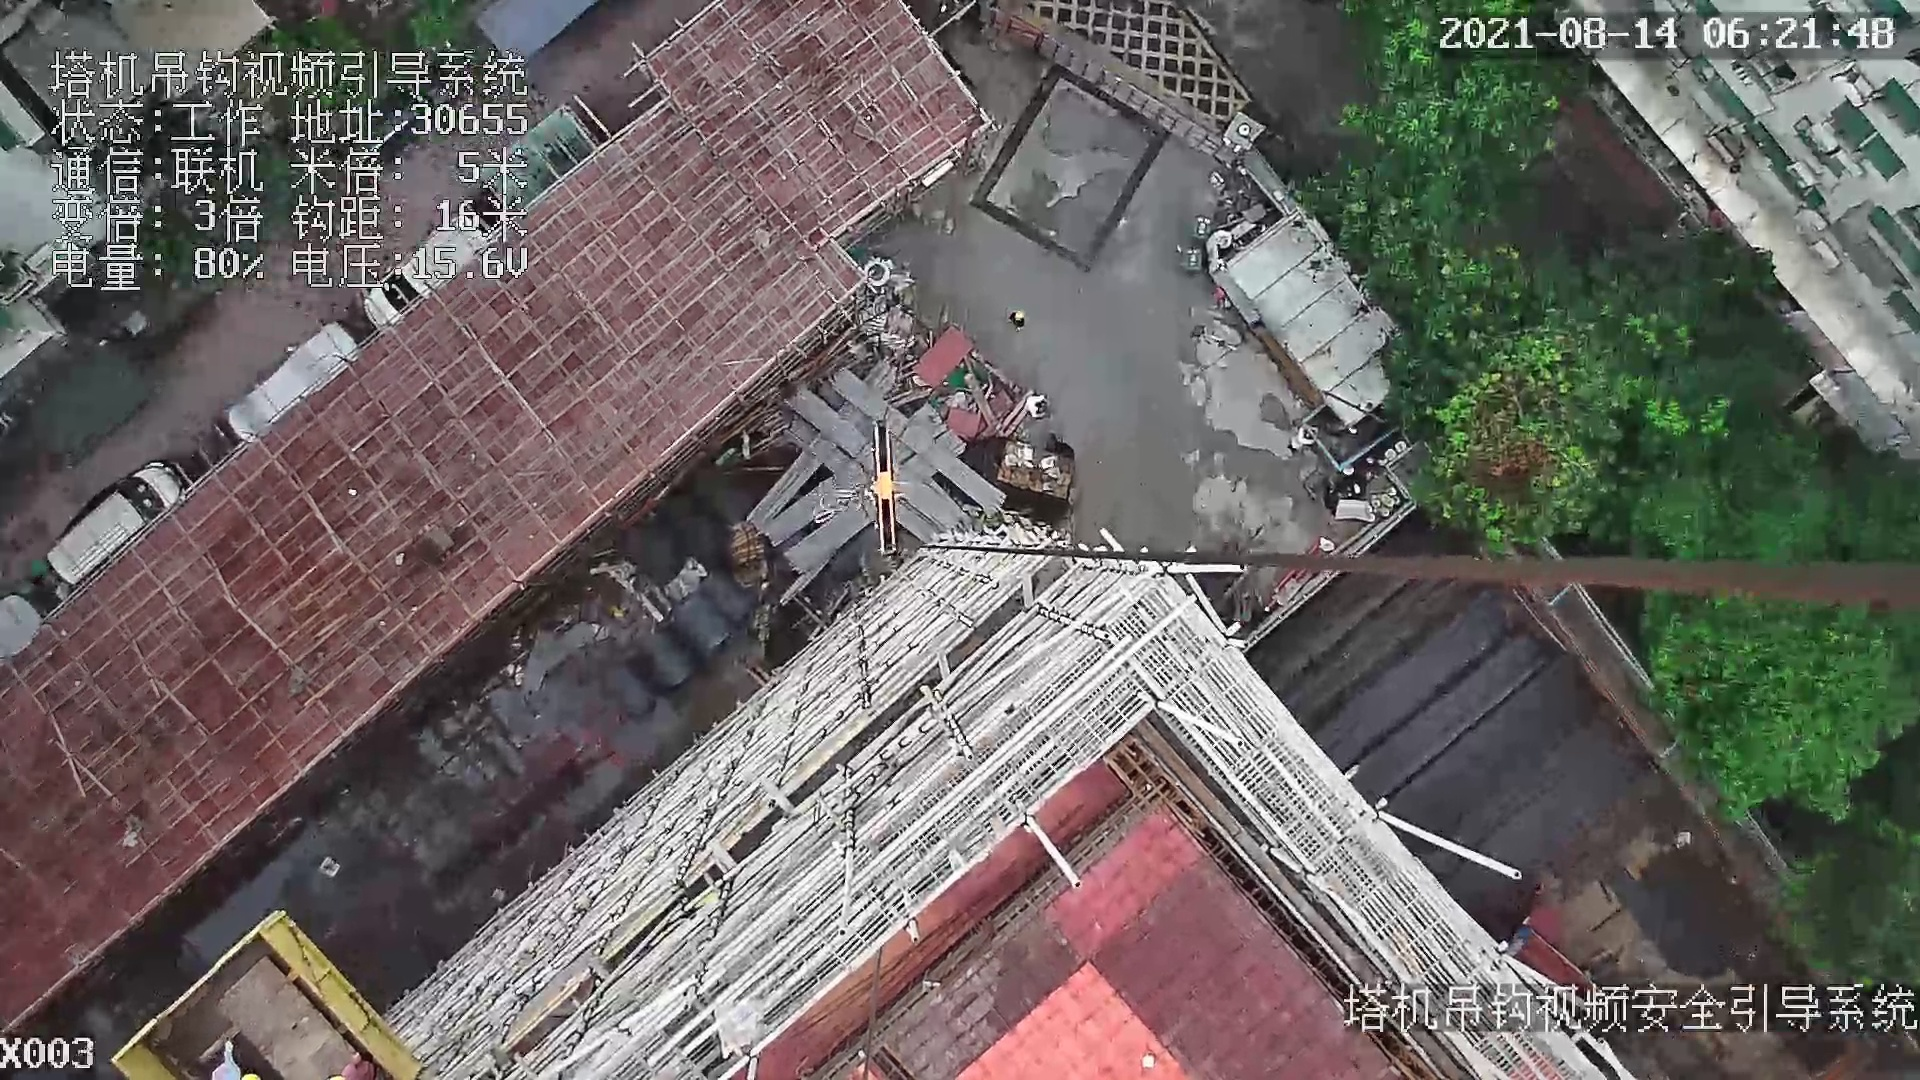hook: (866, 418, 901, 555)
